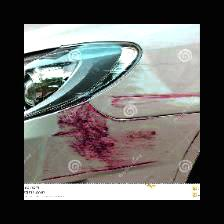bumper_scratch: (43, 102, 168, 176)
